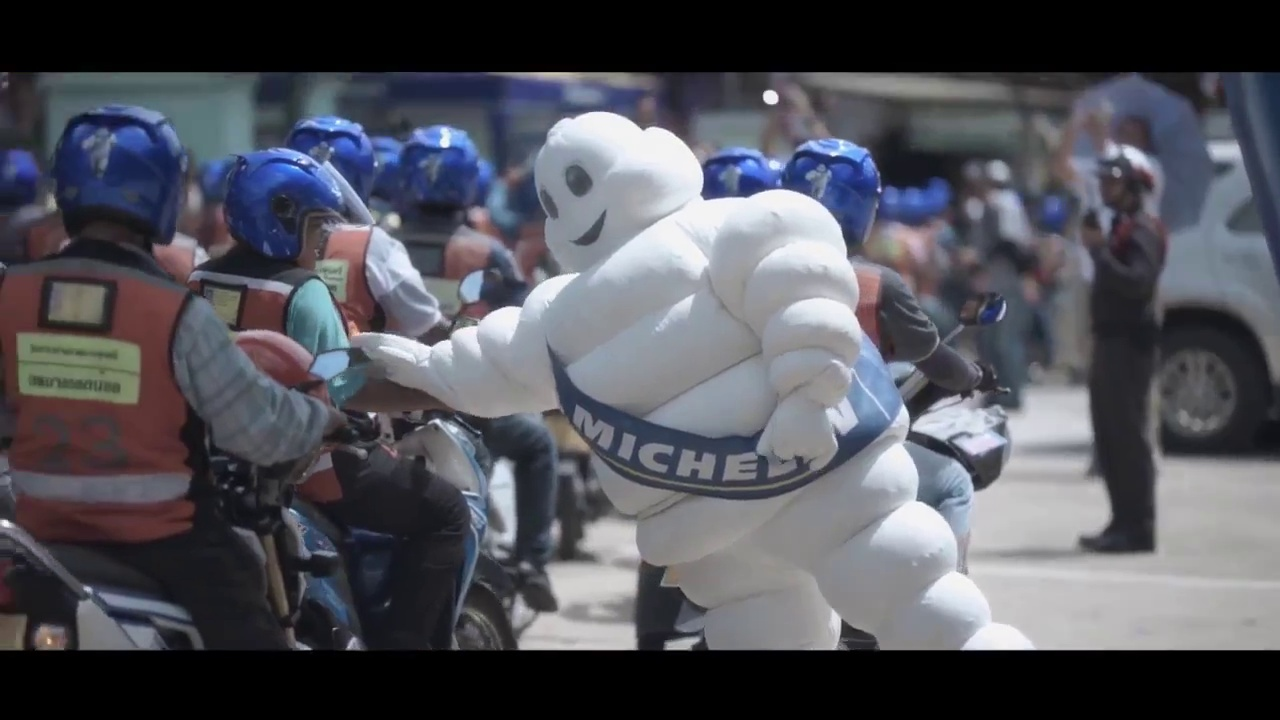helmet: (39, 93, 184, 254), (210, 131, 364, 265), (782, 126, 894, 203), (395, 121, 487, 206), (278, 97, 381, 164), (695, 136, 777, 191)
